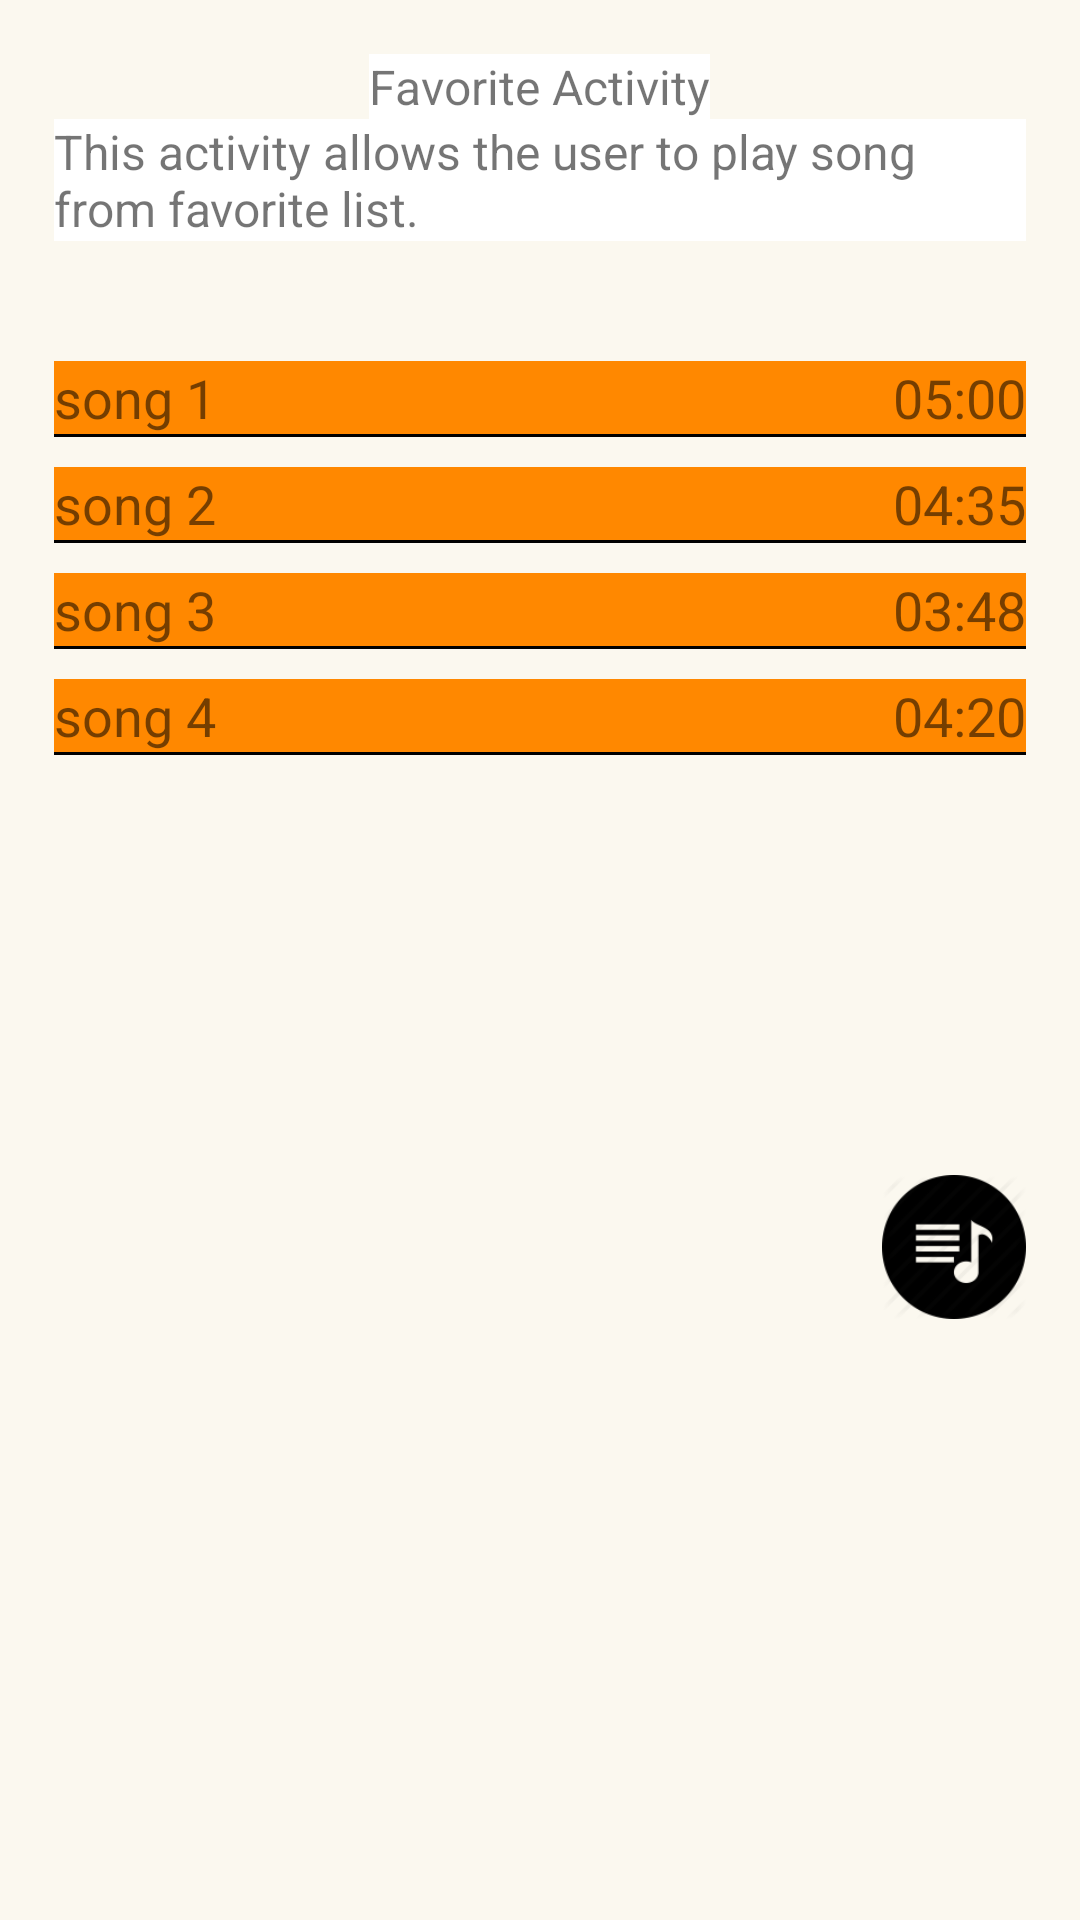

Where to tap for icons on this 1080px×1920px app screen, as [x,y]:
playlist: [954,1247]
